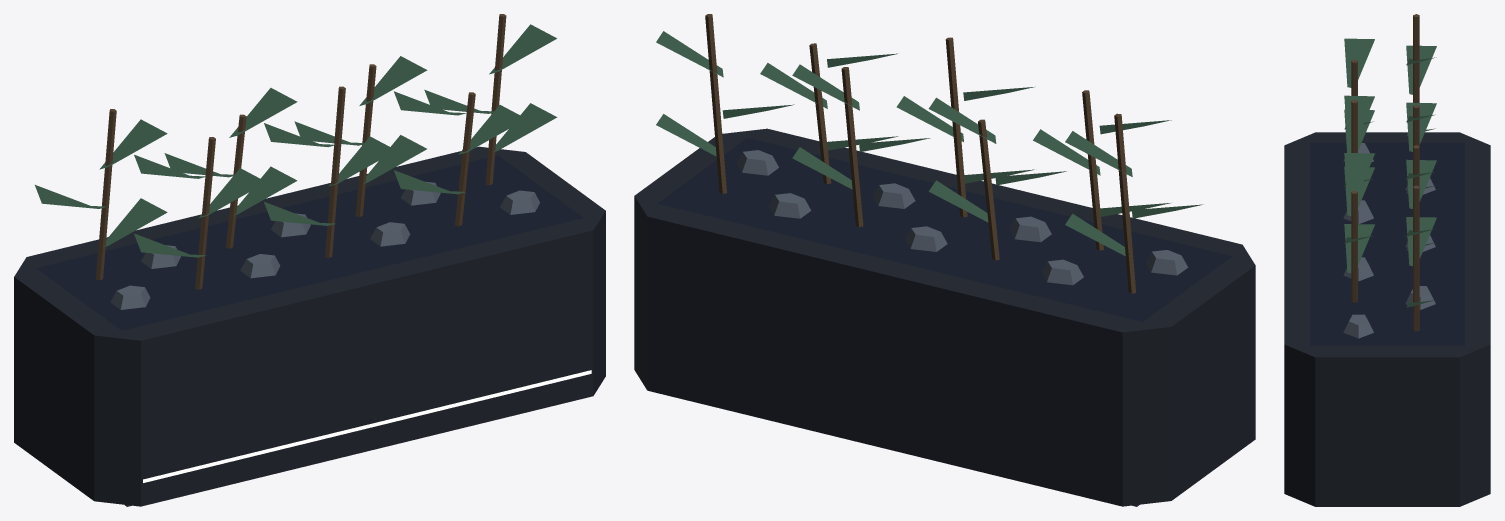
File: res_winter_garden_planter.glb
3 views of the same model, side by side, from view 1: azimuth 30°, elevation 25°; view 2: azimuth 150°, elevation 25°; view 3: azimuth 270°, elevation 25° (orthographic). The views are drawn at different scales.
Visible parts, largest first — view 1: marble_planter, soil, lance_leaf, bamboo_stem, pale_pebble, planter_led; view 2: marble_planter, soil, lance_leaf, bamboo_stem, pale_pebble; view 3: marble_planter, soil, lance_leaf, bamboo_stem, pale_pebble.
Part boxes in pixels (x1,y1,x2,y2): marble_planter: (14,146,605,506); soil: (36,155,583,330); lance_leaf: (35,24,557,257); bamboo_stem: (96,14,506,289); pale_pebble: (110,181,539,309); planter_led: (143,370,591,482); marble_planter: (634,128,1255,506); soil: (657,137,1232,321); lance_leaf: (656,31,1202,256); bamboo_stem: (705,14,1135,293); pale_pebble: (737,150,1188,285); marble_planter: (1284,132,1490,506); soil: (1310,142,1464,345); lance_leaf: (1344,38,1436,307); bamboo_stem: (1351,14,1419,331); pale_pebble: (1343,143,1435,338).
Bounding box in the file's own units: 2.6 × 1.65 × 1.
